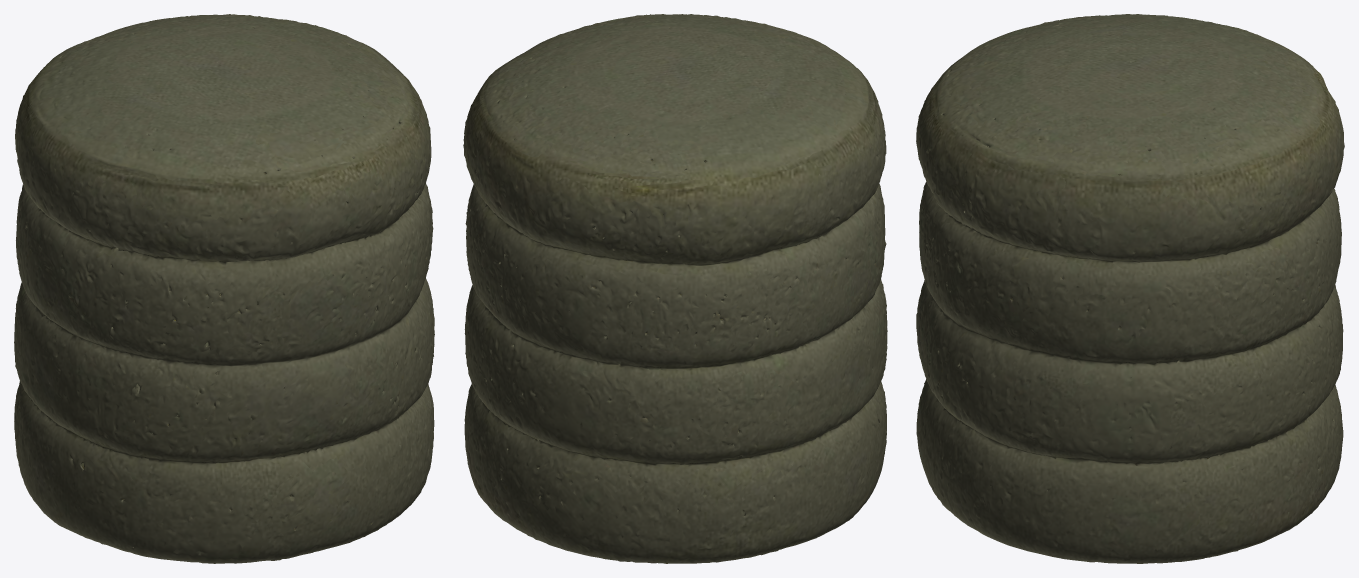
The model's file is floor-cushion-green-boucle-stack-optimized.glb.
The picture shows the model from 3 angles, left to right: view 1: azimuth 30°, elevation 25°; view 2: azimuth 150°, elevation 25°; view 3: azimuth 270°, elevation 25°; orthographic projection.
Parts seen in each view (by area): view 1: world; view 2: world; view 3: world.
Part boxes in pixels (x1,y1,x2,y2): world: [14, 14, 434, 563]; world: [463, 14, 887, 563]; world: [916, 14, 1344, 563].
Bounding box in the file's own units: 0.9016 × 0.9989 × 0.9196.
Materials: 1 (1 with a texture image).
